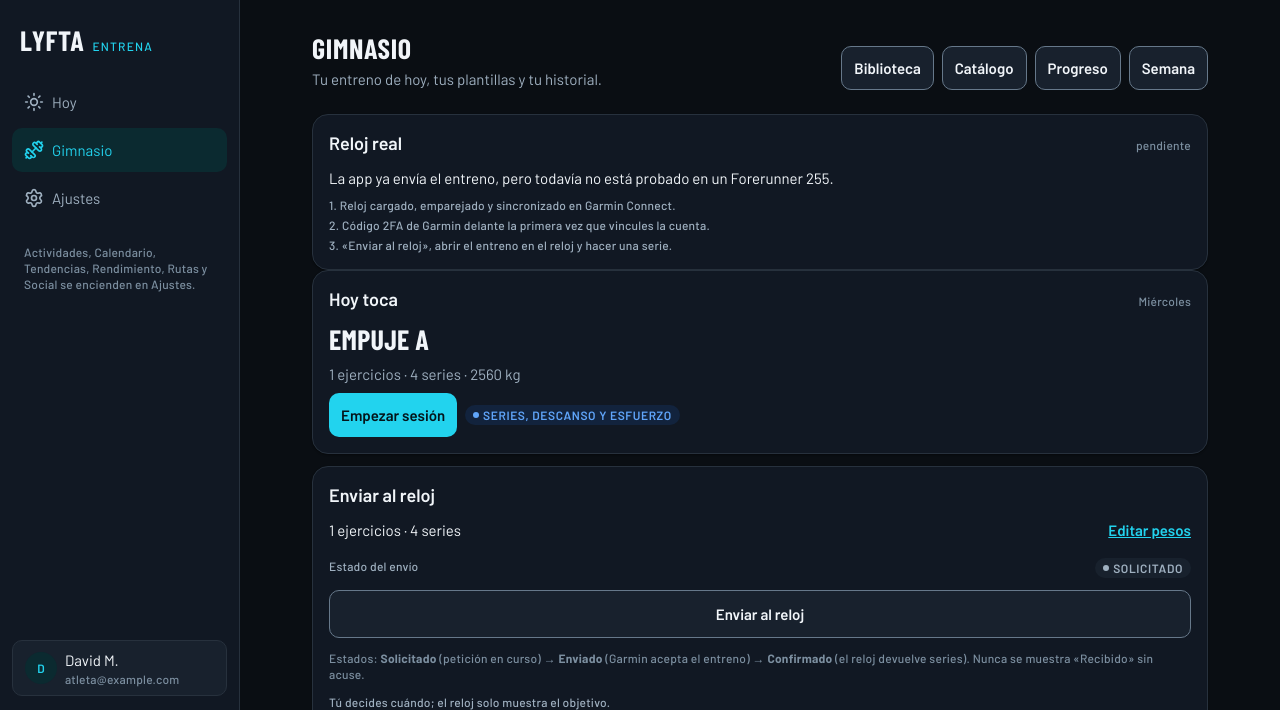
estados del envío al reloj › distingue Solicitado, Enviado y Confirmado, y nunca muestra «Recibido» sin acuse
Expected: the heading "Gimnasio" is shown, [312,31,412,65]
What coordinates should you click on to do the following:
click the button "Enviar al reloj"
I would click on:
 (760, 614)
Its box is [329,590,1191,638].
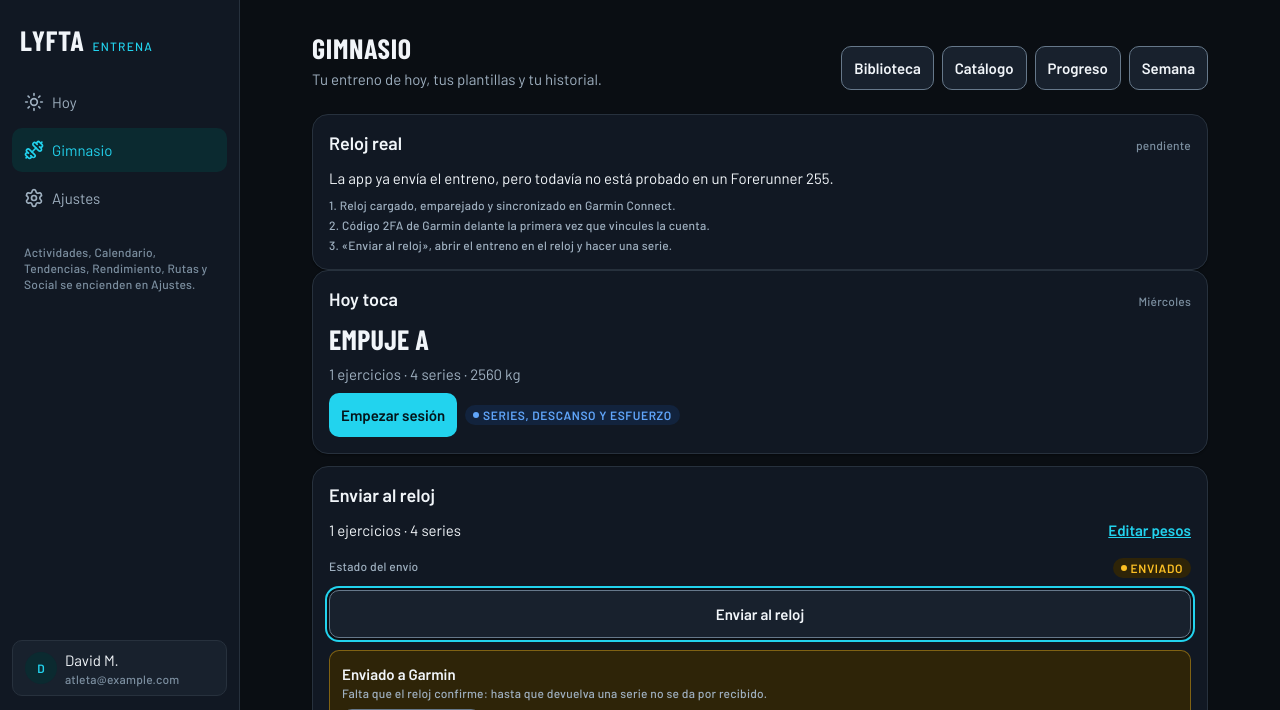
Expected: the text "Enviado a Garmin" is shown, [342,665,456,683]
Expected: the text "Falta que el reloj confirme" is shown, [342,686,767,700]
Expected: the text "Enviado" is shown, [1113,558,1191,578]
What coordinates should you click on to do the following:
click the button "Enviar al reloj"
I would click on:
 (760, 614)
Its box is [329,590,1191,638].
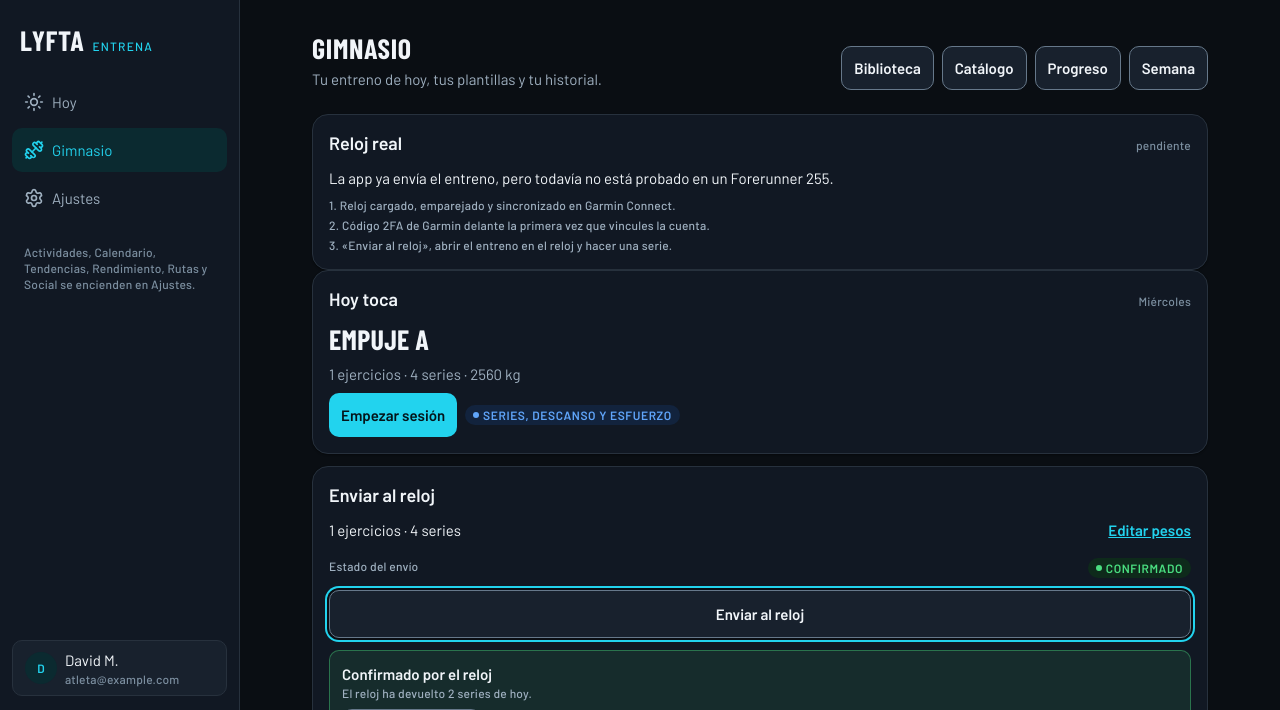
Expected: the text "Confirmado" is shown, [1088,558,1191,578]
Expected: the text "Confirmado por el reloj" is shown, [342,665,492,683]
Expected: the text "El reloj ha devuelto 2 series de hoy." is shown, [342,686,532,700]
